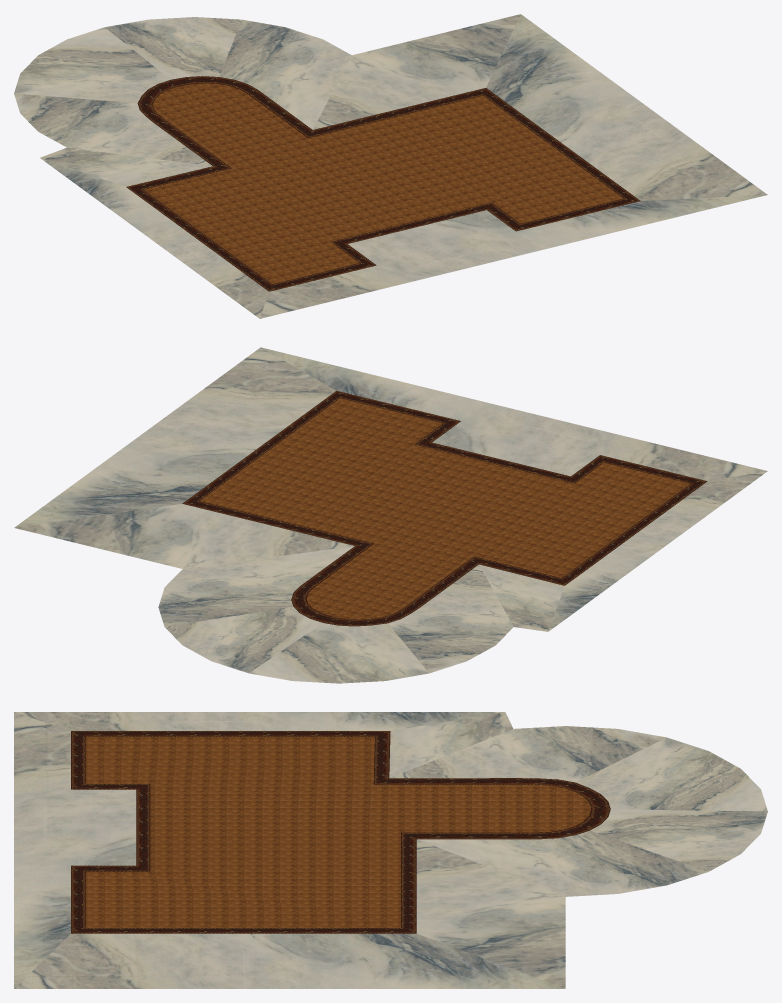
The model's file is LibraryFloor.fbx.
3 renders of one model, top to bottom at view 1: azimuth 30°, elevation 25°; view 2: azimuth 150°, elevation 25°; view 3: azimuth 270°, elevation 25°, orthographic. The views are drawn at different scales.
Visible parts, largest first — view 1: Floor Piece; view 2: Floor Piece; view 3: Floor Piece.
Boxes of the visible parts, <box> form: Floor Piece: <box>14,14,767,318</box>; Floor Piece: <box>14,347,767,683</box>; Floor Piece: <box>14,712,767,988</box>.
Bounding box in the file's own units: 1784 × 0.000334 × 2053.
